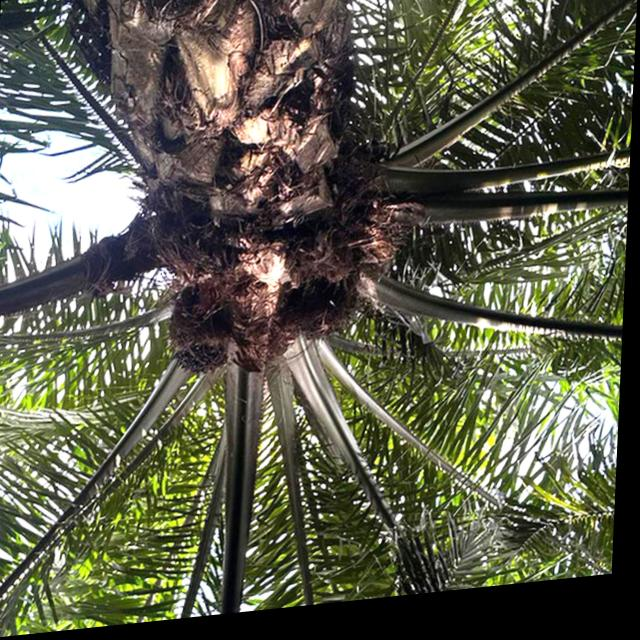unripe: (170, 336, 231, 383)
